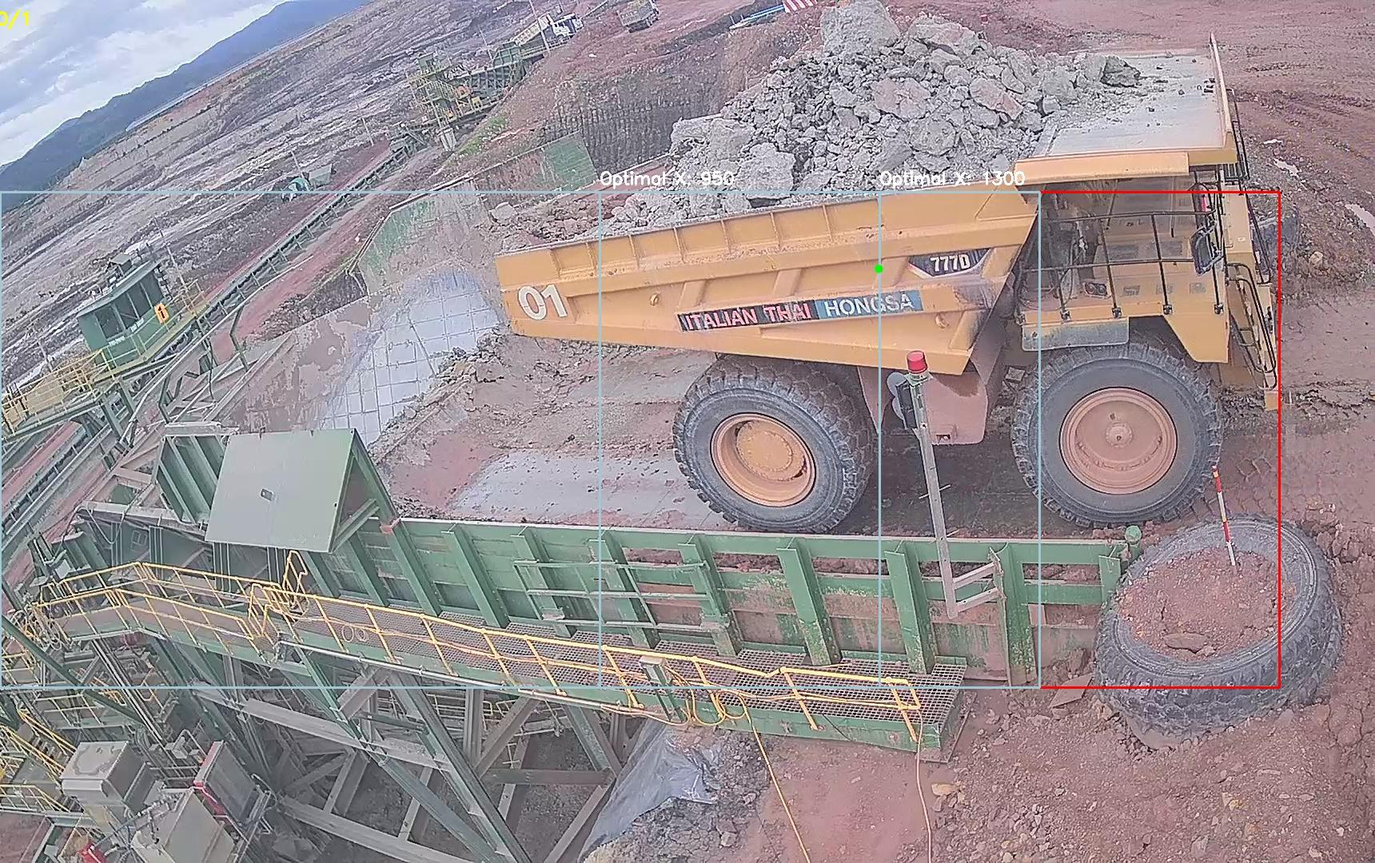company: (669, 274, 928, 333)
full_load: (676, 16, 1005, 216)
mining_truck: (490, 8, 1292, 531)
tail_number: (504, 271, 579, 333)
truck_size: (902, 241, 1000, 283)
